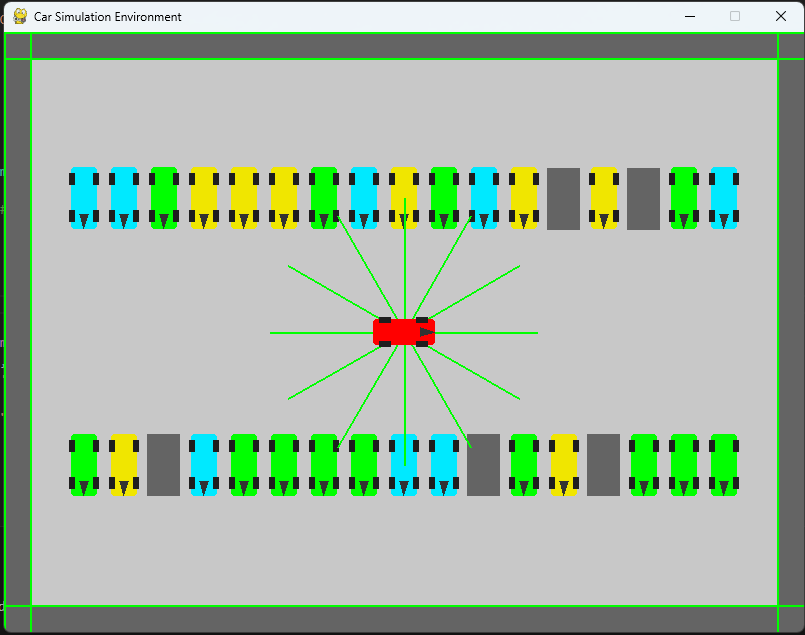ControlledCar: (366, 310, 440, 358)
ParkedCar: (63, 159, 102, 232), (386, 430, 424, 503), (586, 160, 624, 232), (707, 430, 747, 498), (226, 161, 263, 234), (665, 433, 703, 503), (704, 164, 743, 232), (626, 430, 664, 499), (146, 161, 182, 233), (547, 427, 583, 499), (263, 430, 301, 498), (105, 161, 140, 233), (465, 166, 501, 236), (67, 427, 102, 497), (185, 431, 221, 499), (507, 430, 542, 499), (307, 163, 344, 228), (385, 164, 422, 229), (664, 166, 701, 231), (186, 163, 221, 230), (507, 166, 542, 233), (345, 432, 380, 499), (428, 430, 461, 500), (267, 166, 303, 230), (428, 166, 461, 234), (306, 433, 340, 498), (228, 429, 259, 499), (108, 430, 138, 499), (348, 166, 378, 232)
ParkingSpot: (143, 425, 182, 499), (545, 164, 585, 236), (461, 429, 500, 500), (625, 162, 662, 236), (586, 428, 623, 501)
